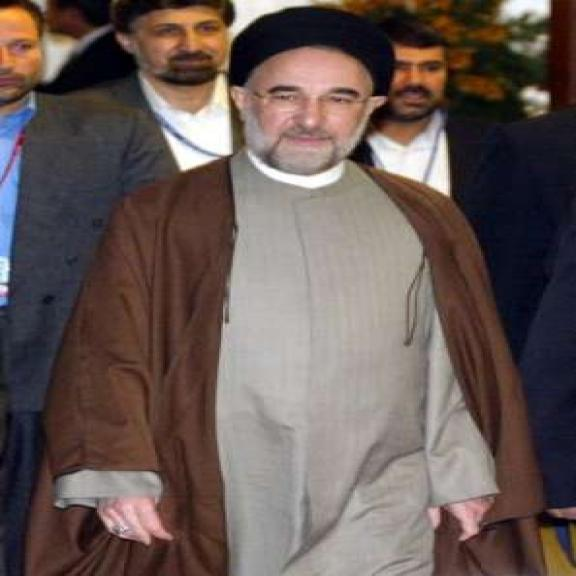face: (226, 53, 393, 176), (123, 12, 238, 84), (385, 39, 458, 120), (0, 5, 49, 107)
